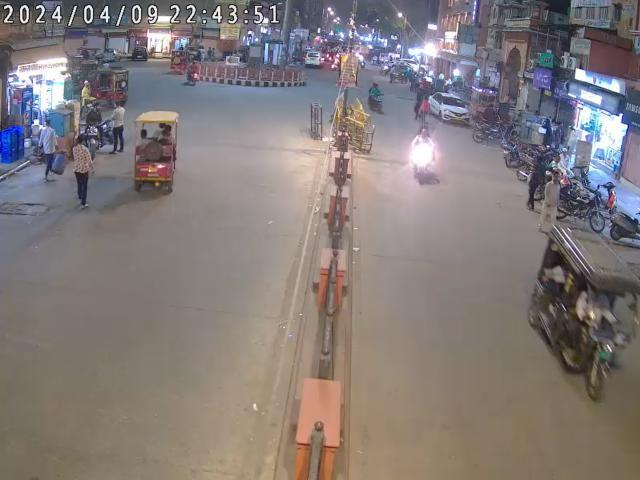auto: (530, 224, 640, 404), (131, 109, 179, 198)
car: (426, 92, 472, 127)
motorbike-rider: (413, 126, 437, 184)
person: (70, 134, 98, 209), (536, 172, 564, 232), (36, 120, 58, 180), (109, 102, 128, 154), (414, 96, 430, 132)
scooty-rider: (366, 82, 384, 112)
